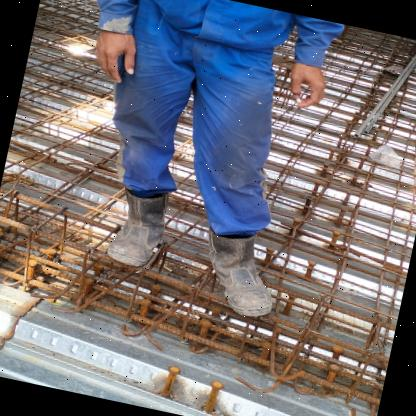bota: (187, 225, 288, 325), (91, 182, 177, 272)
